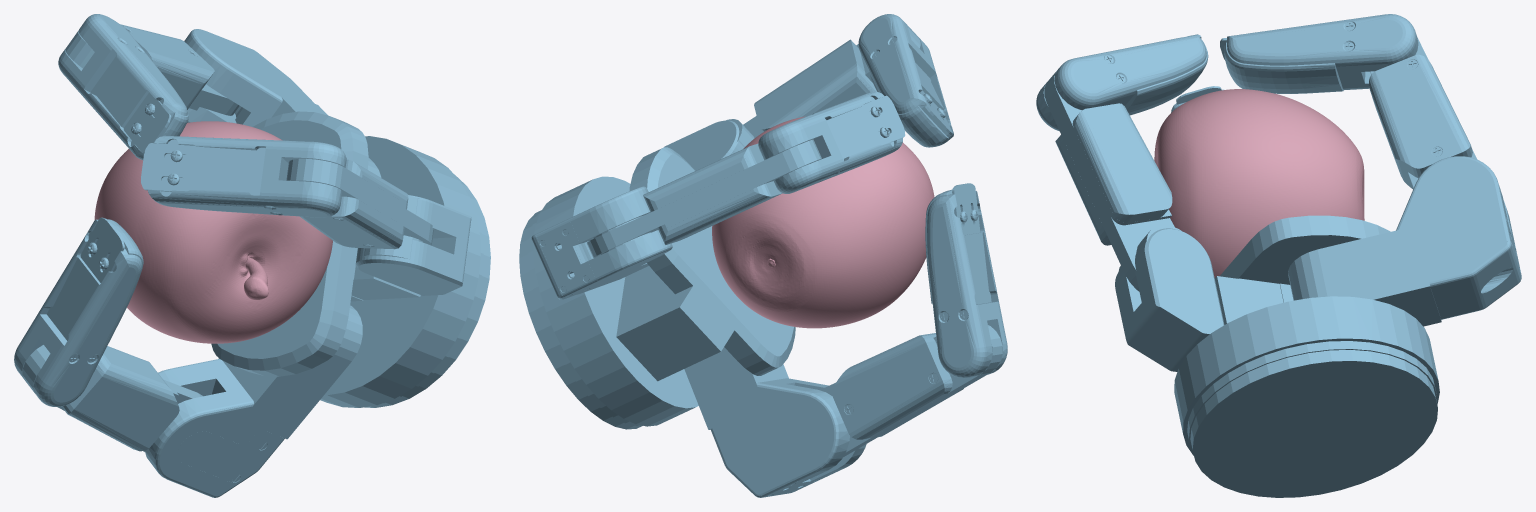
3 renders of one model, left to right at view 1: azimuth 30°, elevation 25°; view 2: azimuth 150°, elevation 25°; view 3: azimuth 270°, elevation 25°, orthographic. The views are drawn at different scales.
Parts seen in each view (by area): view 1: world; view 2: world; view 3: world.
Boxes of the visible parts, x1,y1,x2,y2 form: world: (14,14,490,497); world: (519,14,1007,497); world: (1036,14,1521,497).
Bounding box in the file's own units: 0.1772 × 0.1658 × 0.1653.
